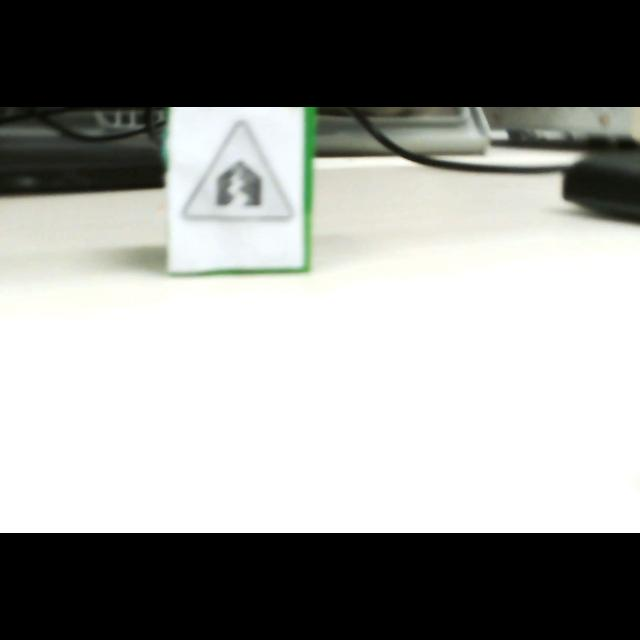Earthquake: (180, 119, 292, 223), (182, 120, 294, 222)
